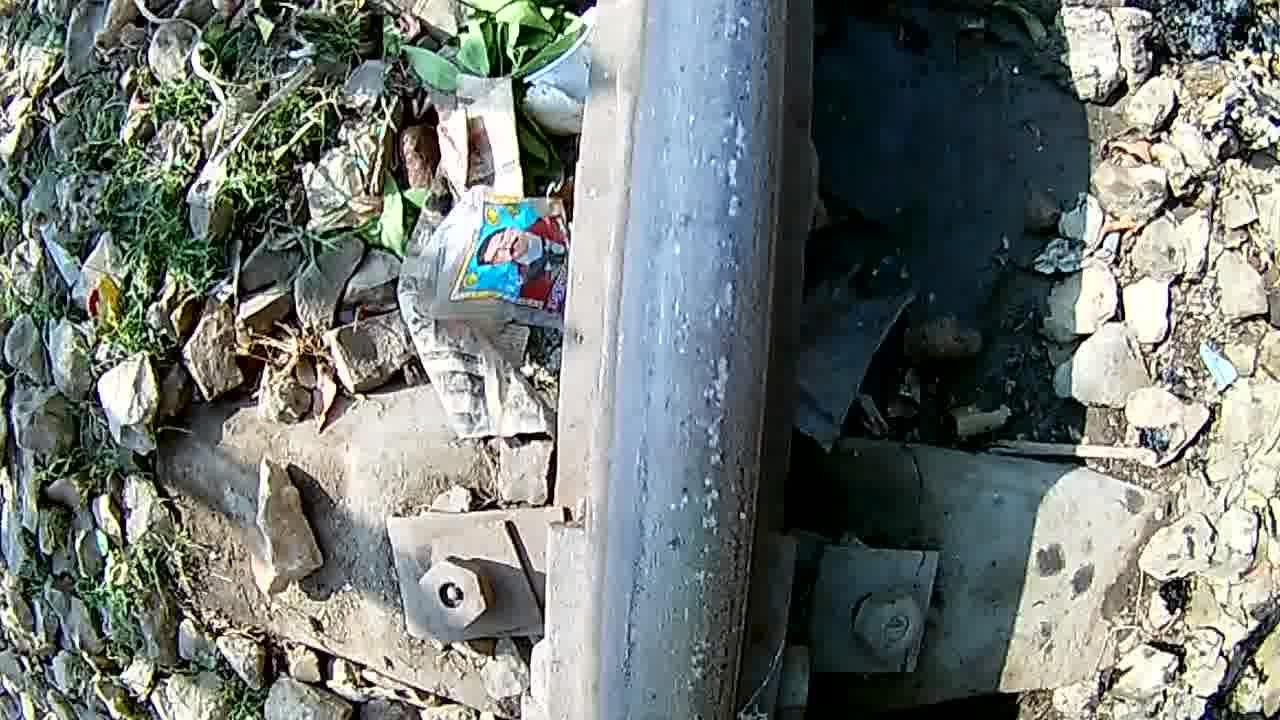clip_missing: (610, 0, 786, 720)
